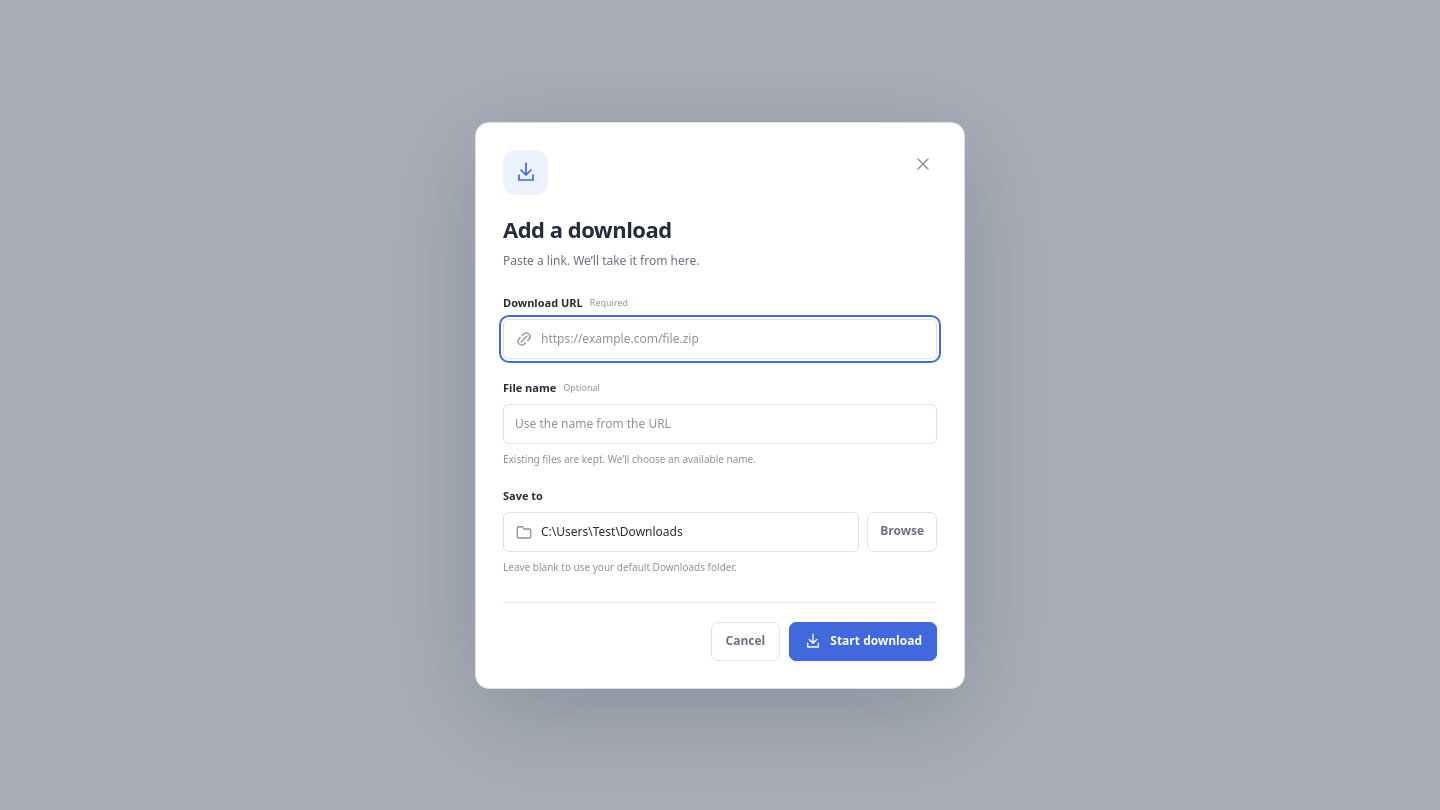
Scenario: add download dialog › focuses the URL, rejects invalid inputs, and focuses the first error
Click the button "Start download".
click(863, 641)  # box x1=789 y1=622 x2=937 y2=660
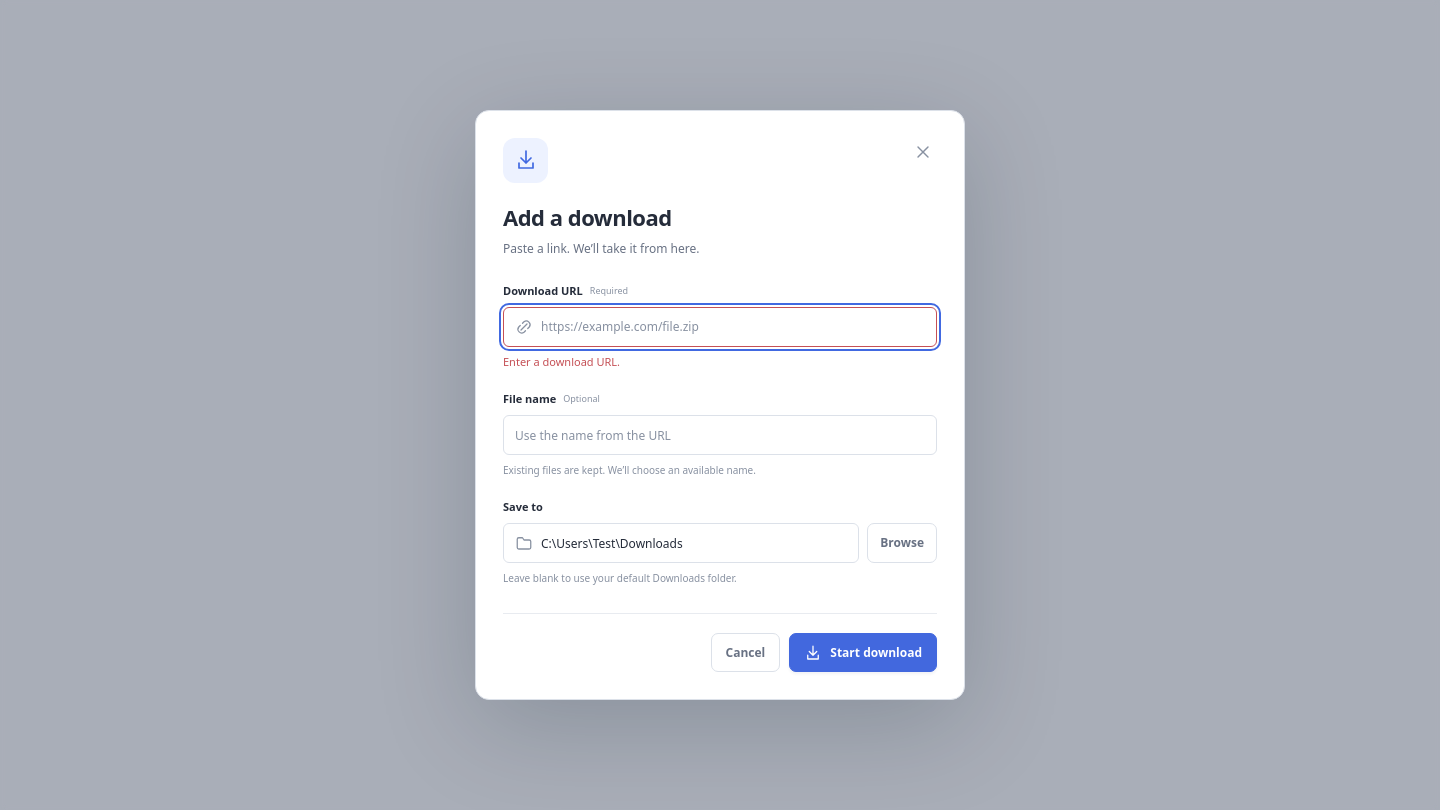
Result: the text "Enter a download URL." is shown at x1=503 y1=354 x2=620 y2=369
Type "https://example.com/file" into the field labelled "Download URL Required".
click(738, 327); type("https://example.com/file")  # box x1=541 y1=308 x2=936 y2=346
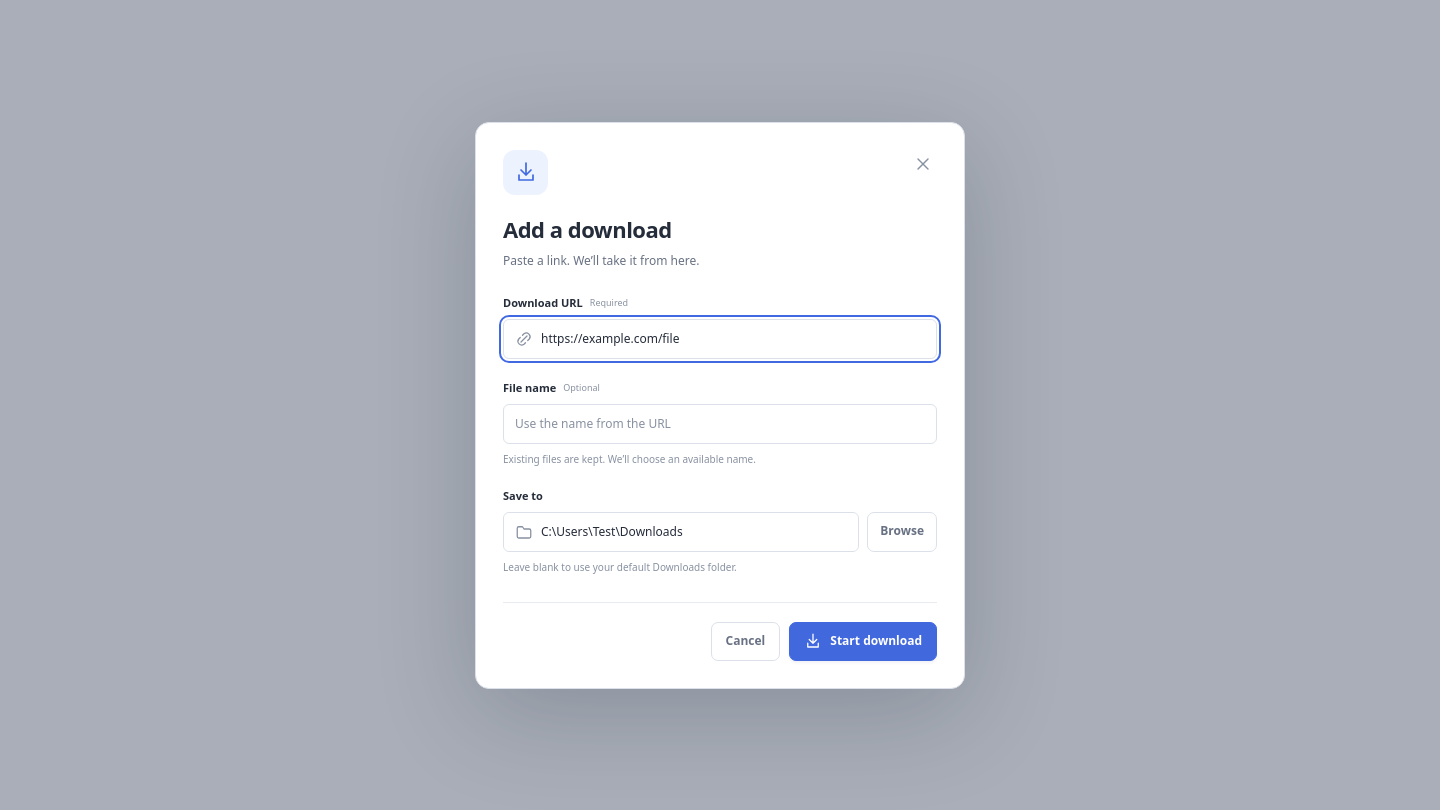
Type "CON.txt" into the field labelled "File name Optional".
click(720, 424); type("CON.txt")  # box x1=503 y1=404 x2=937 y2=444
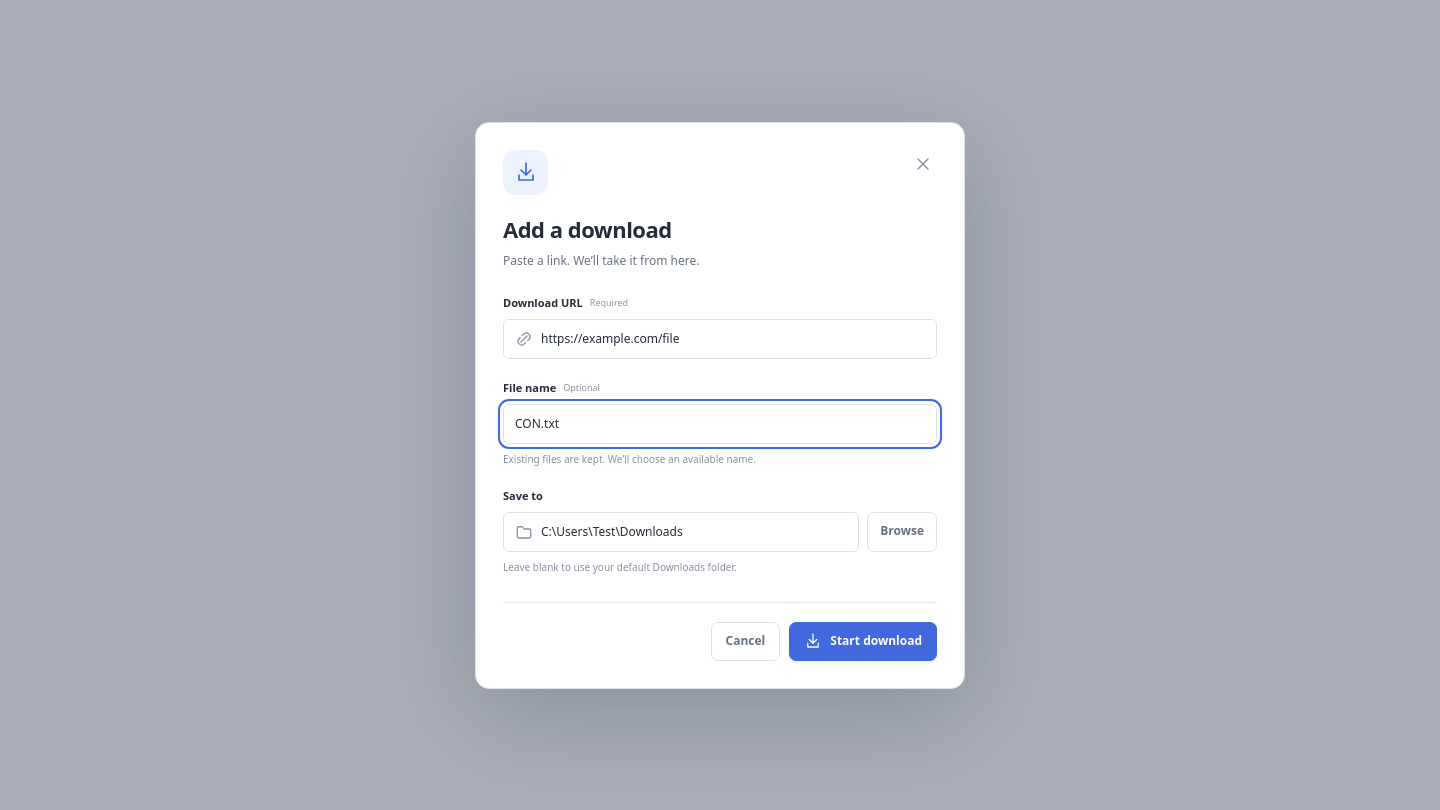
Click the button "Start download".
click(863, 641)  # box x1=789 y1=622 x2=937 y2=660
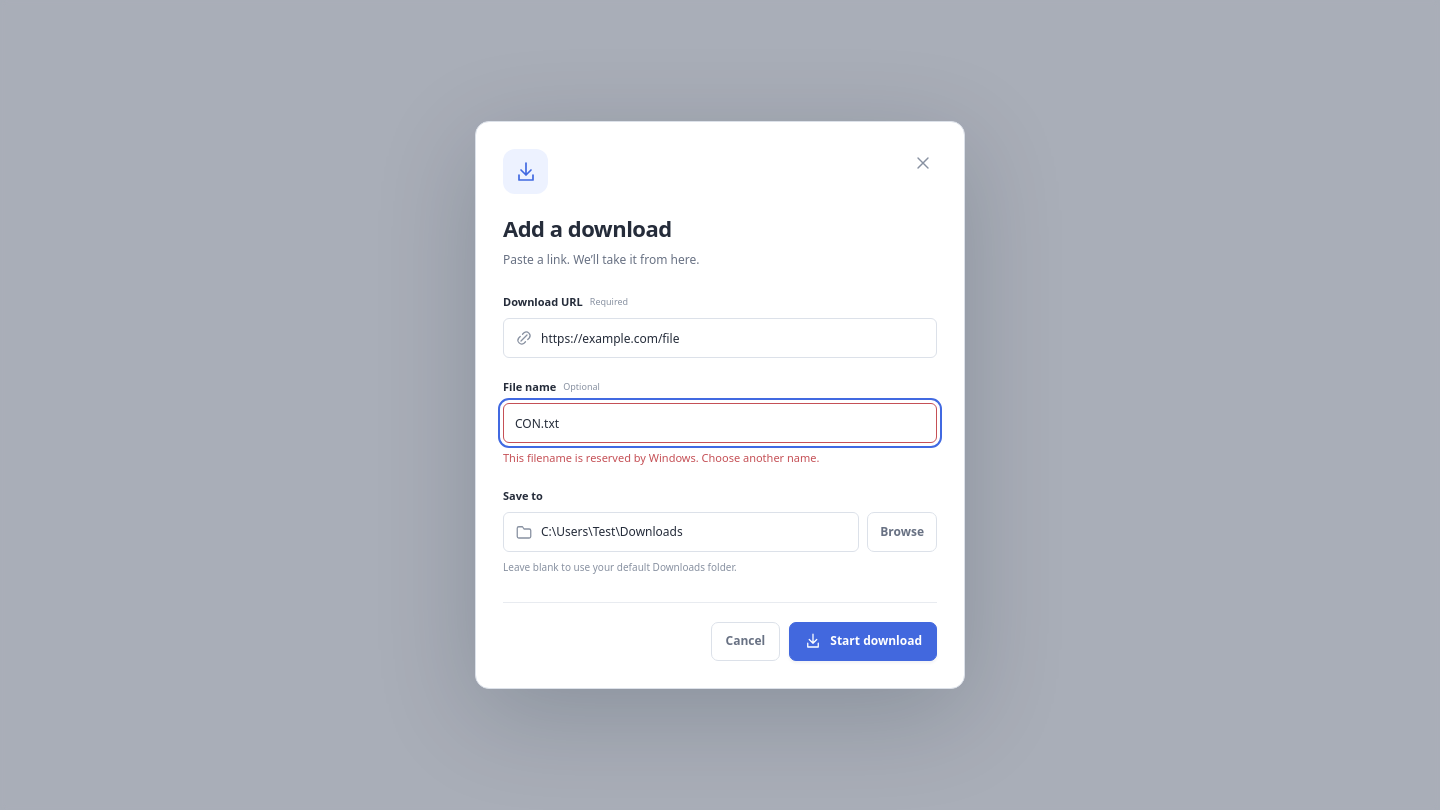
Result: the text "This filename is reserved by Windows. Choose another name." is shown at x1=503 y1=450 x2=819 y2=465
